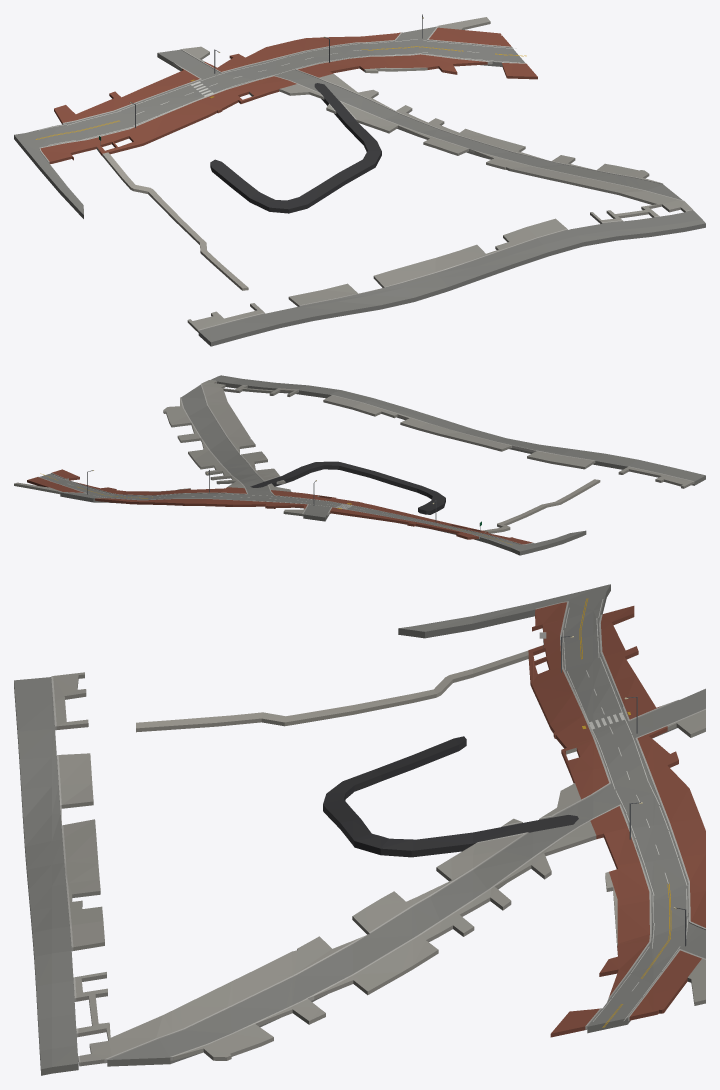
3 views of the same model, one above another, from view 1: azimuth 30°, elevation 25°; view 2: azimuth 150°, elevation 25°; view 3: azimuth 270°, elevation 25° (orthographic). The views are drawn at different scales.
Size of the model in its own units: 148 by 29.51 by 115.
